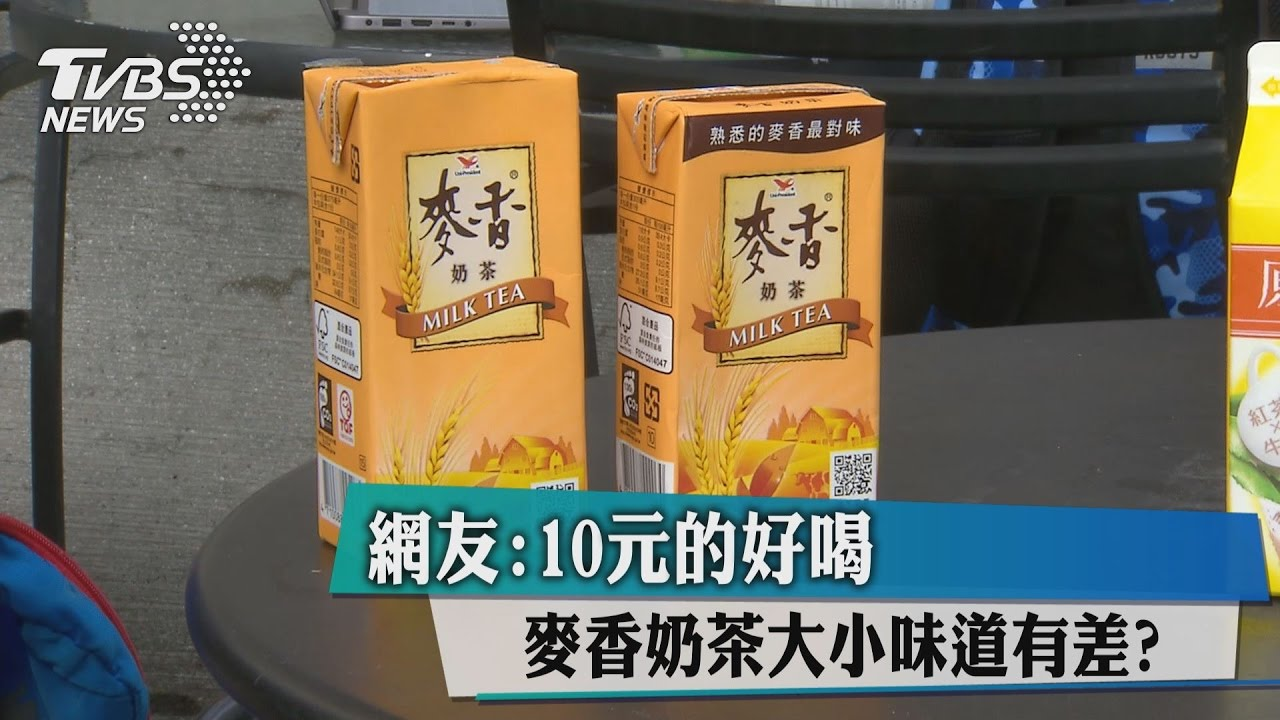milk tea: (311, 44, 580, 501), (617, 85, 882, 493)
